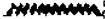Water: (4, 2, 103, 17)
